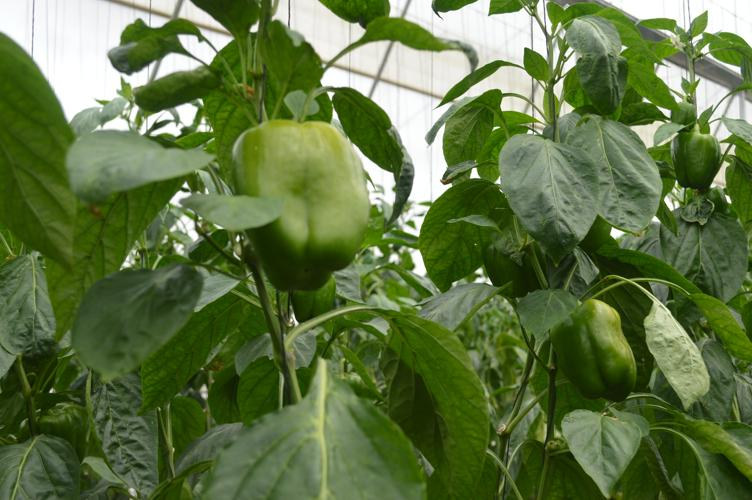BellPepper: (228, 119, 369, 285), (551, 300, 640, 414), (478, 226, 539, 317), (667, 123, 722, 196), (284, 278, 347, 327)
